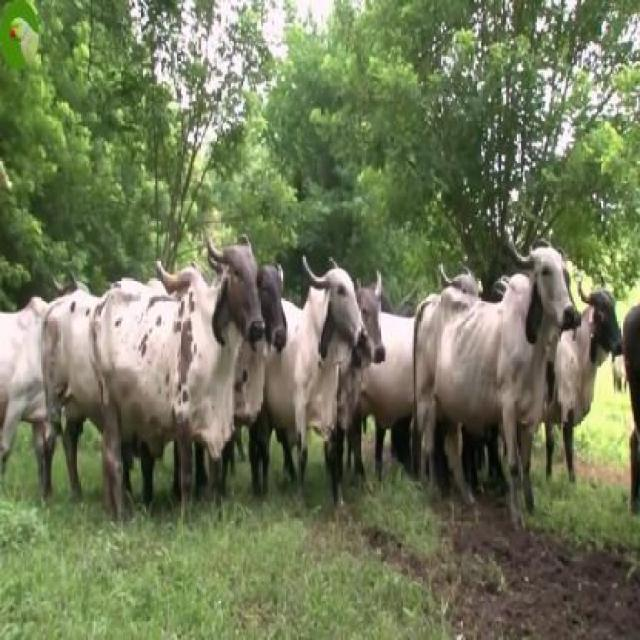Cow: (91, 238, 263, 524), (412, 244, 571, 530)
